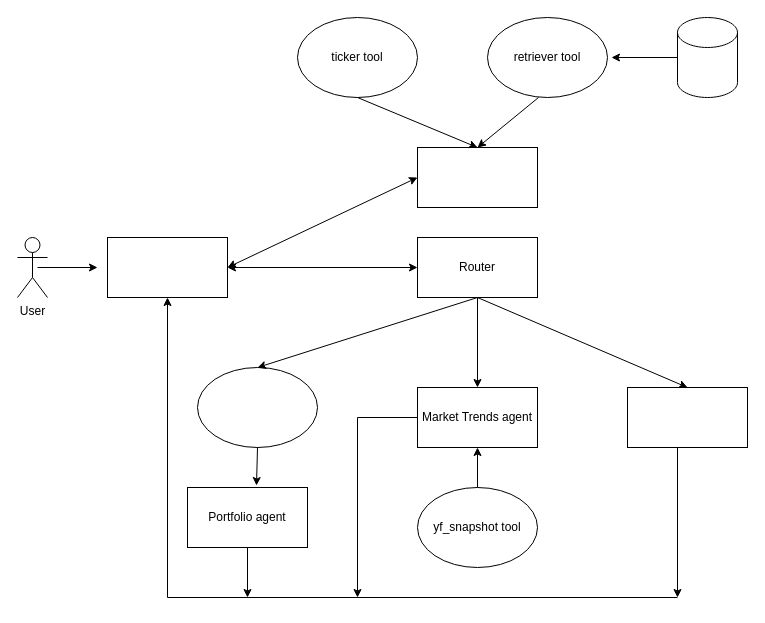
Image size: 765x623. Some labels were removed from this diagram. The shapes that lost their labels are listed below. From the top down, each one's centre as x and y in pixels, then its label:
At point (477, 177): "QA agent".
At point (167, 267): "UI".
At point (257, 407): "portfolio enhance tool".
At point (687, 417): "Goal Planning Agent".
